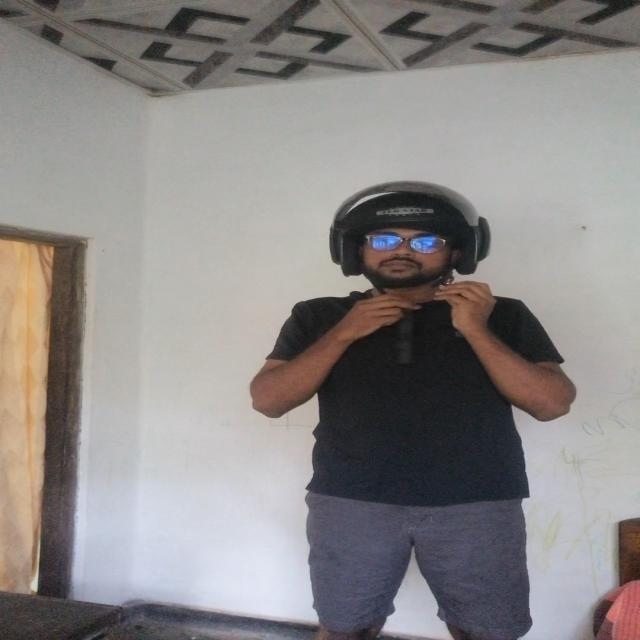Helmet_Wearer: (302, 176, 510, 314)
Person: (243, 181, 584, 640)
